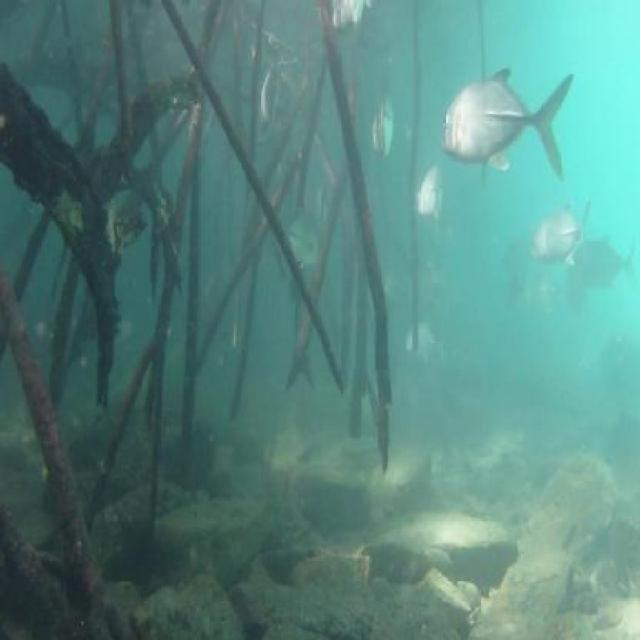Caranx_sexfasciatus_juvenile: (437, 67, 577, 181), (574, 223, 635, 294), (529, 194, 589, 264), (397, 306, 451, 380), (282, 192, 327, 279), (256, 58, 289, 151), (368, 94, 399, 169), (408, 240, 442, 303), (414, 169, 449, 228), (525, 270, 560, 322), (554, 282, 594, 318), (506, 247, 540, 282)
